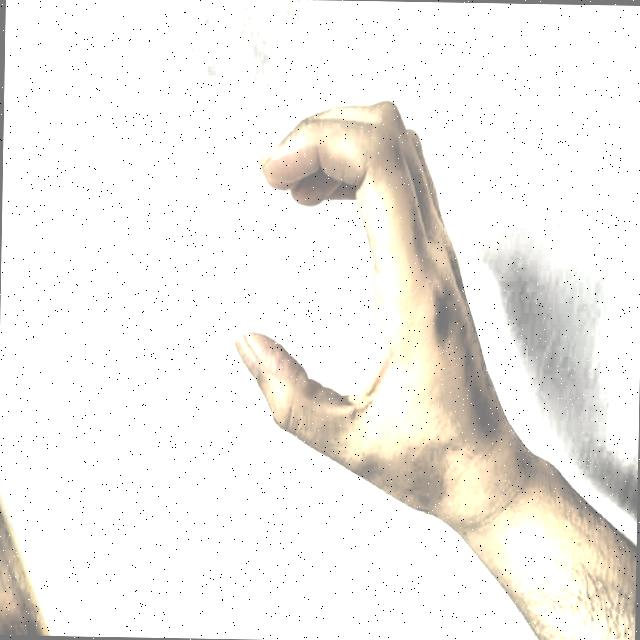A: (202, 70, 489, 576)
